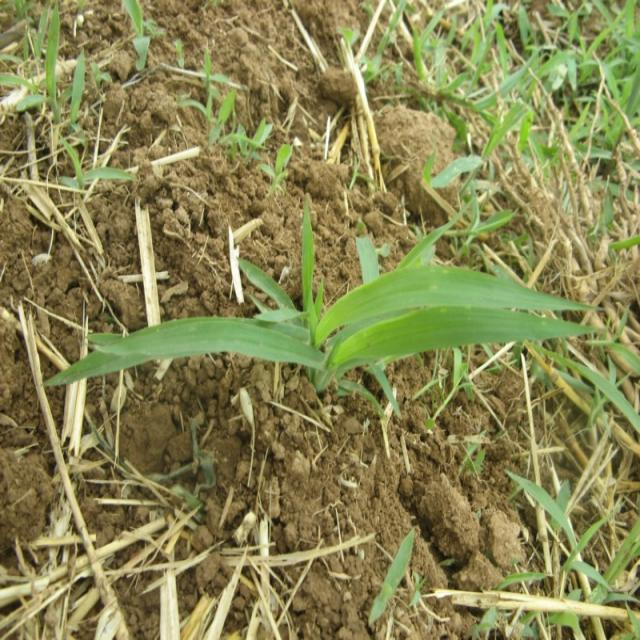bg: (35, 255, 605, 405)
